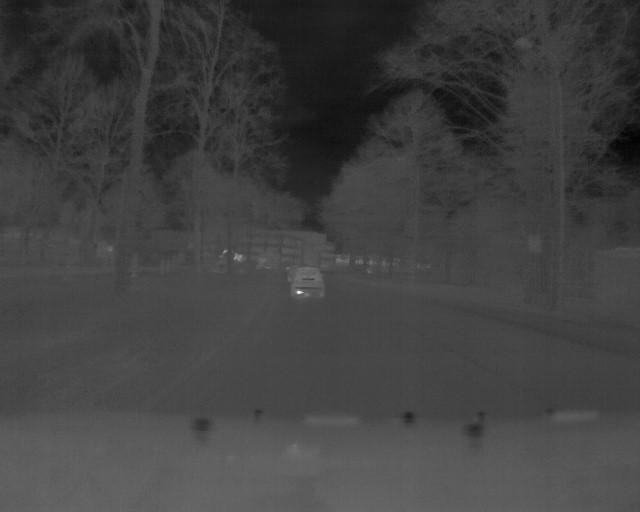car: (288, 265, 327, 303)
